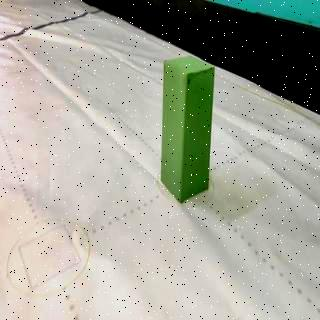greenbox: (160, 56, 216, 204)
